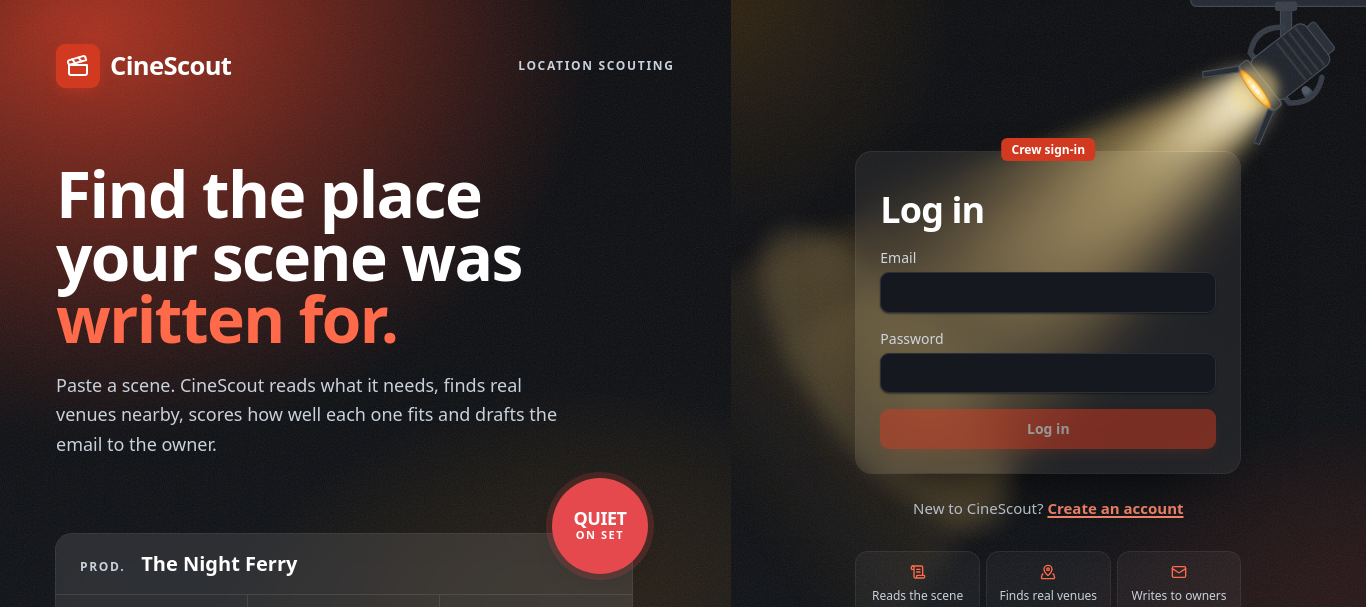
the command palette › lists matching productions, scenes and venues before page jumps, and matches pages where their words start
In the field labelled "Email": [1048, 293] box [880, 272, 1216, 313], type "ada@example.com"
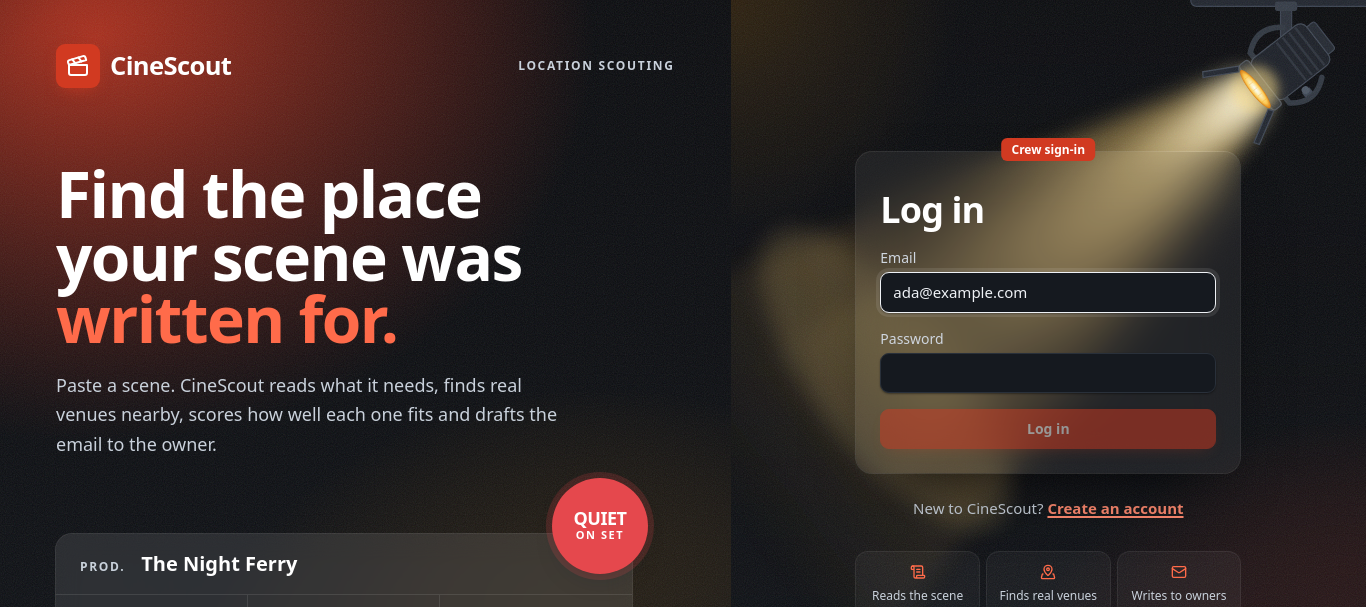
In the password field labelled "Password": [1048, 373] box [880, 353, 1216, 393], type "a-long-password"
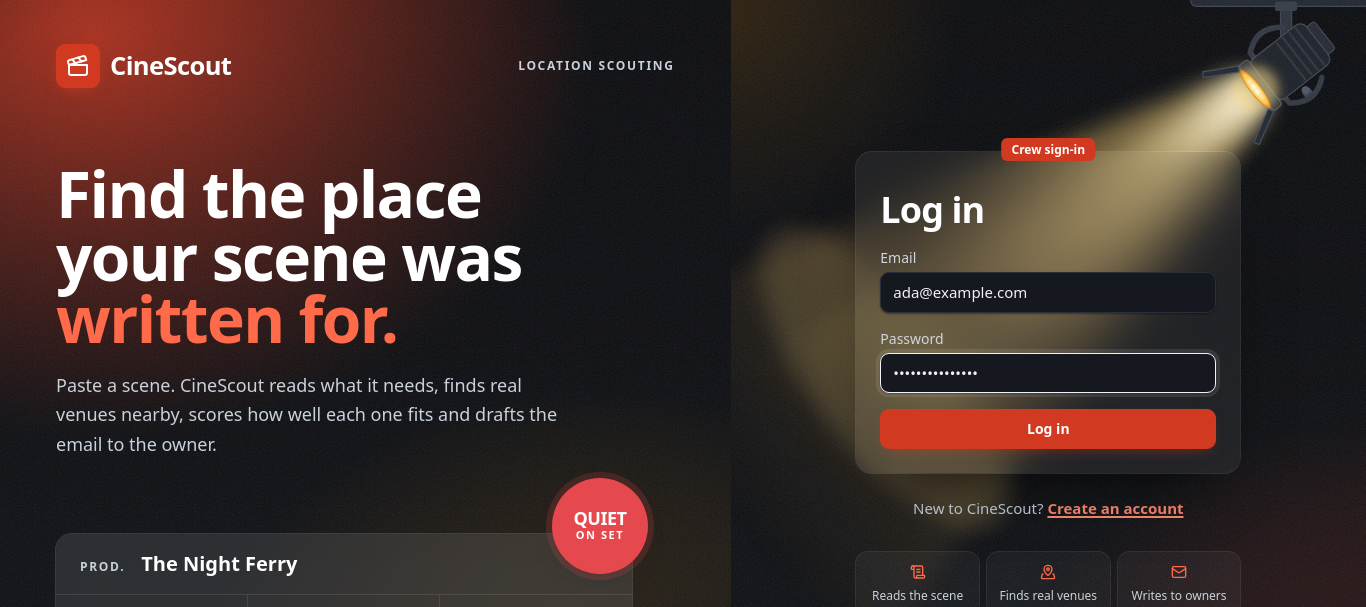
Click the button "Log in": [1048, 429] box [880, 409, 1216, 449]
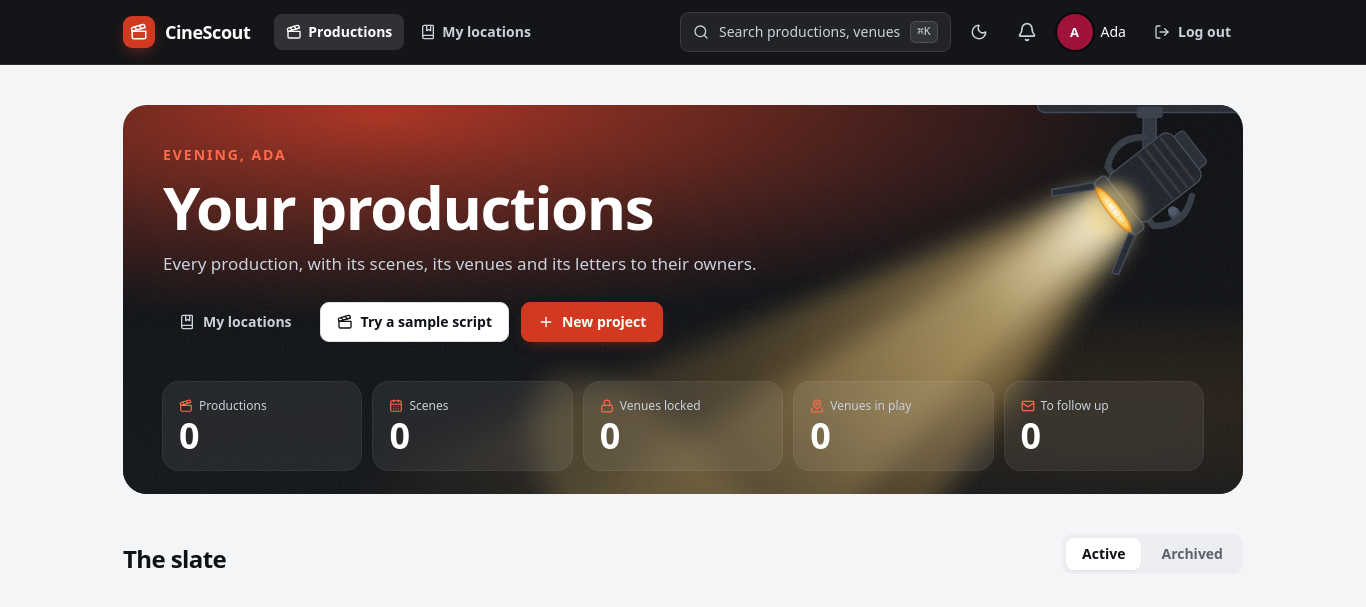
Click the button named "Search (Ctrl+K)": [815, 32] box [680, 12, 951, 52]
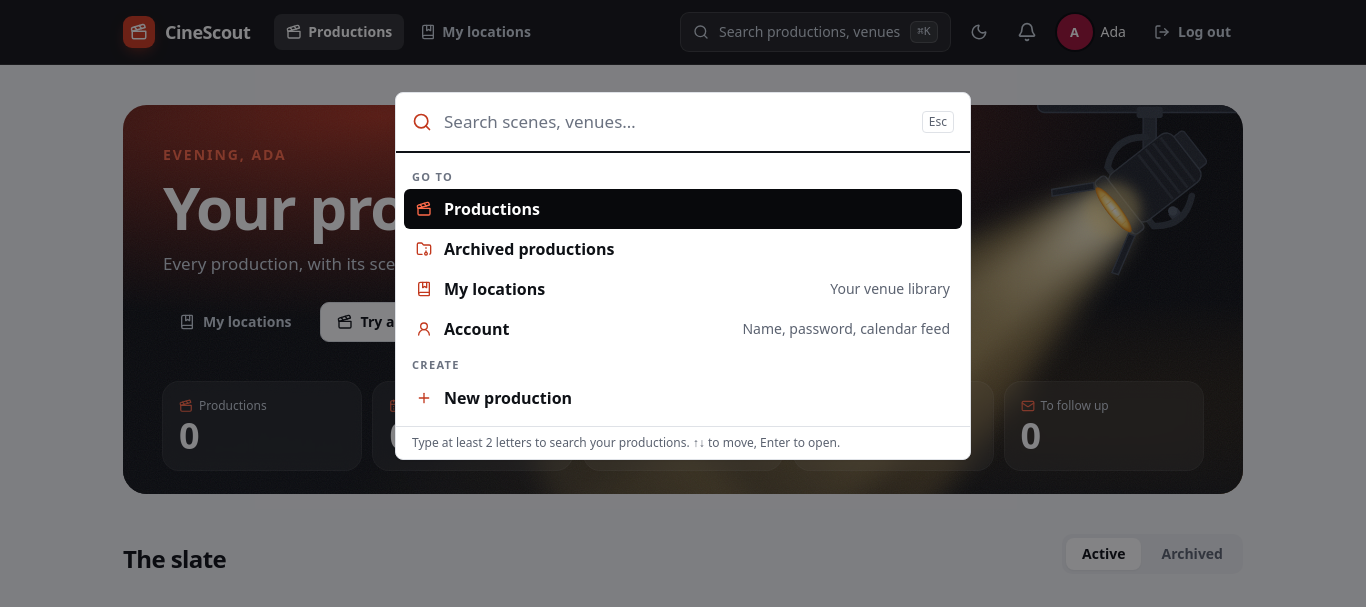
In the dropdown: [677, 122] box [444, 93, 910, 151], type "lo"
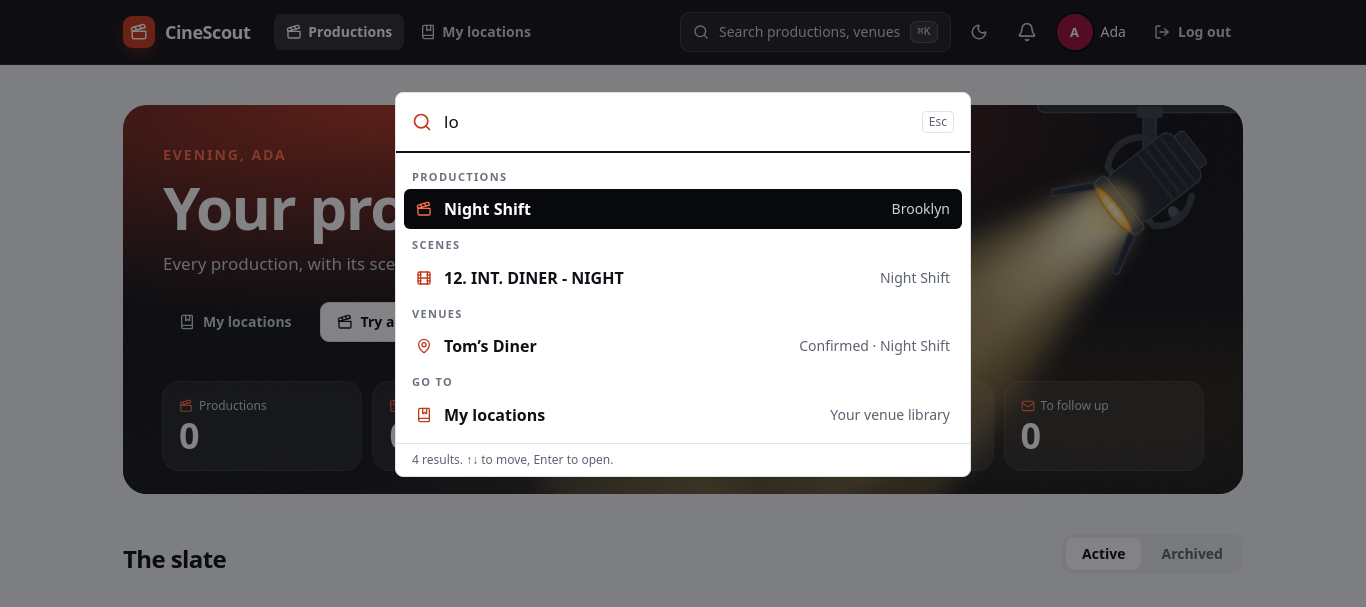
Expected: the option "Tom’s Diner Confirmed · Night Shift" is shown, [416, 335, 950, 357]
Expected: the options read "Night ShiftBrooklyn", "12. INT. DINER - NIGHTNight Shift", "Tom’s DinerConfirmed · Night Shift", "My locationsYour venue library", in this order, [404, 189, 962, 229]; [416, 267, 950, 289]; [416, 335, 950, 357]; [416, 404, 950, 426]
Replace the text in the dropdown with "ed": [677, 122] box [444, 93, 910, 151]
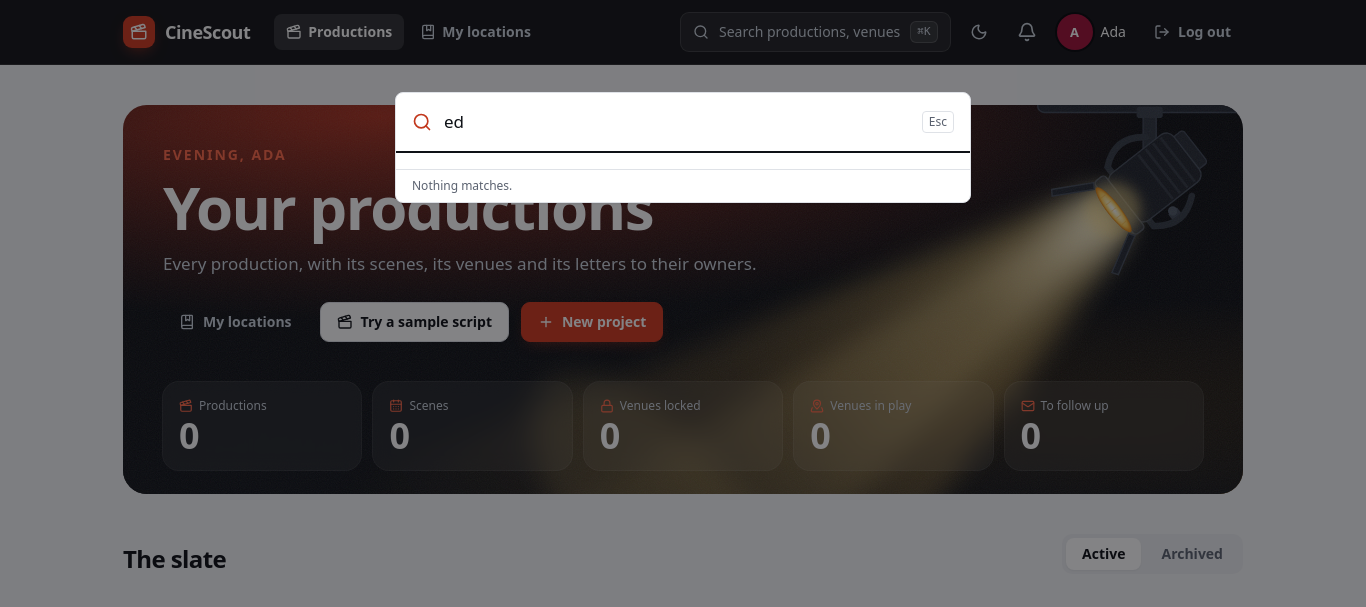
Expected: the text "Nothing matches." is shown, [396, 169, 970, 202]
